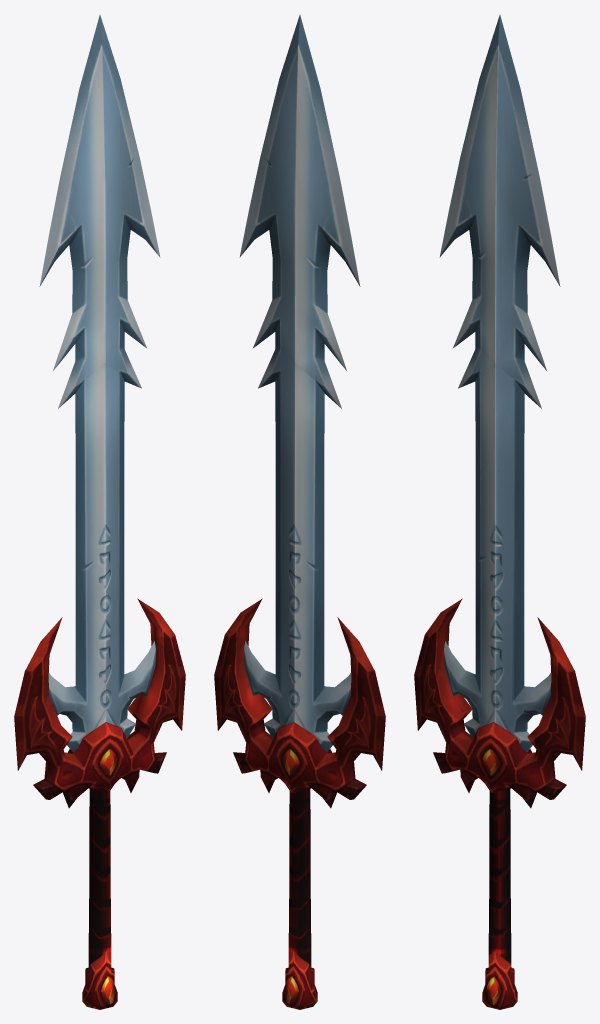
File: Sword.obj
The picture shows the model from 3 angles, left to right: view 1: azimuth 30°, elevation 25°; view 2: azimuth 150°, elevation 25°; view 3: azimuth 330°, elevation 25°; orthographic projection.
Visible parts, largest first — view 1: p_Sword_MergedGuardianDragonBlade_001; view 2: p_Sword_MergedGuardianDragonBlade_001; view 3: p_Sword_MergedGuardianDragonBlade_001.
Boxes of the visible parts, x1,y1,x2,y2 form: p_Sword_MergedGuardianDragonBlade_001: [14, 15, 185, 1009]; p_Sword_MergedGuardianDragonBlade_001: [214, 15, 385, 1009]; p_Sword_MergedGuardianDragonBlade_001: [414, 15, 585, 1009].
Size of the model in its own units: 0.3883 by 2.15 by 0.077.
Materials: 1 (1 with a texture image).
